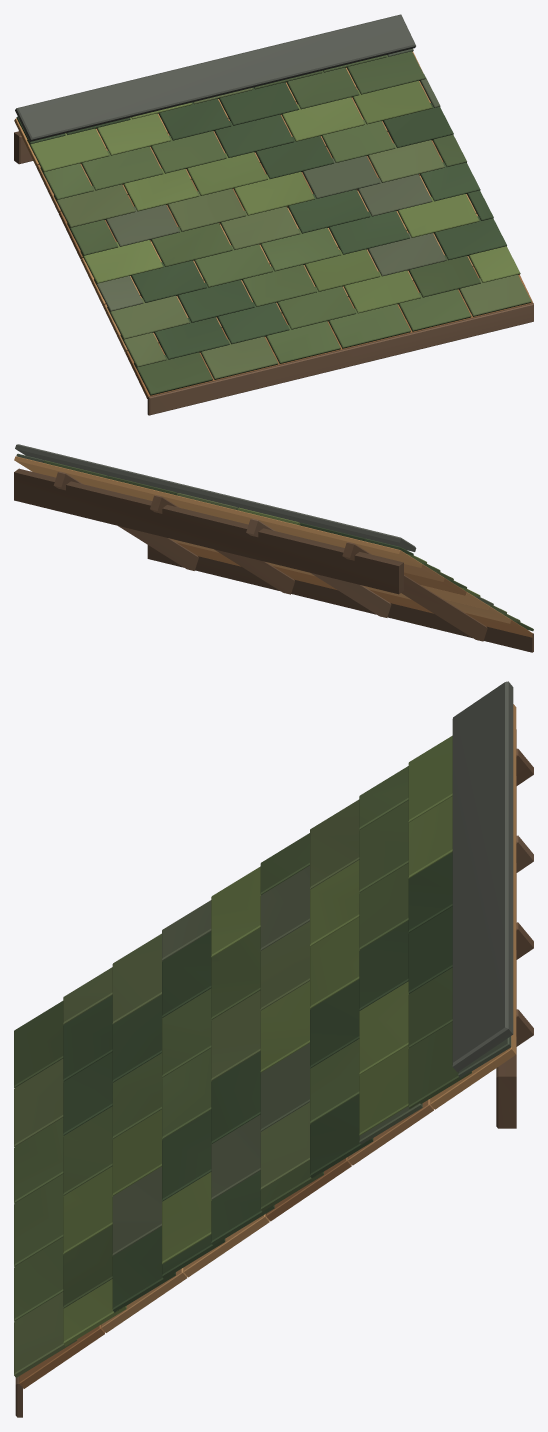
File: wood_roof_slope_01.glb
3 views of the same model, one above another, from view 1: azimuth 30°, elevation 25°; view 2: azimuth 150°, elevation 25°; view 3: azimuth 270°, elevation 25° (orthographic). The views are drawn at different scales.
Parts seen in each view (by area): view 1: wood_roof_slope_01_shingles, wood_roof_slope_01_frame; view 2: wood_roof_slope_01_frame, wood_roof_slope_01_shingles; view 3: wood_roof_slope_01_shingles, wood_roof_slope_01_frame.
Boxes of the visible parts, x1,y1,x2,y2 form: wood_roof_slope_01_shingles: (15, 14, 531, 395); wood_roof_slope_01_frame: (14, 51, 533, 415); wood_roof_slope_01_frame: (14, 456, 533, 652); wood_roof_slope_01_shingles: (15, 444, 533, 631); wood_roof_slope_01_shingles: (14, 681, 513, 1377); wood_roof_slope_01_frame: (15, 704, 533, 1417).
Bounding box in the file's own units: 4 × 2.09 × 2.53.
